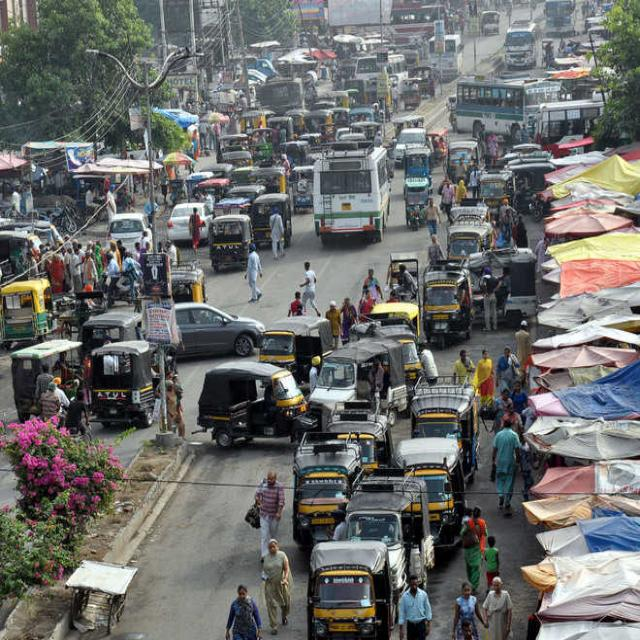autorikshaw: (198, 361, 320, 447), (292, 431, 363, 555), (309, 541, 391, 640), (410, 376, 480, 484)
